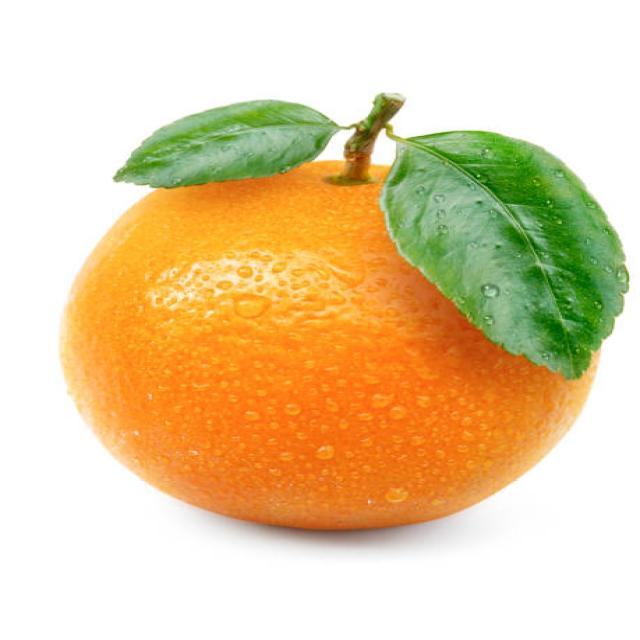Ripe: (61, 143, 606, 532)
